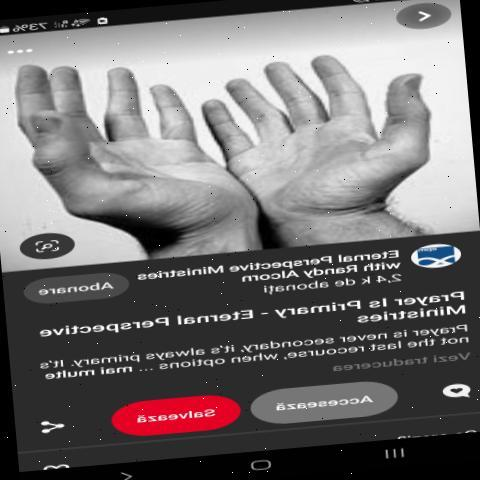Hands: (200, 20, 444, 247), (3, 38, 197, 283)
